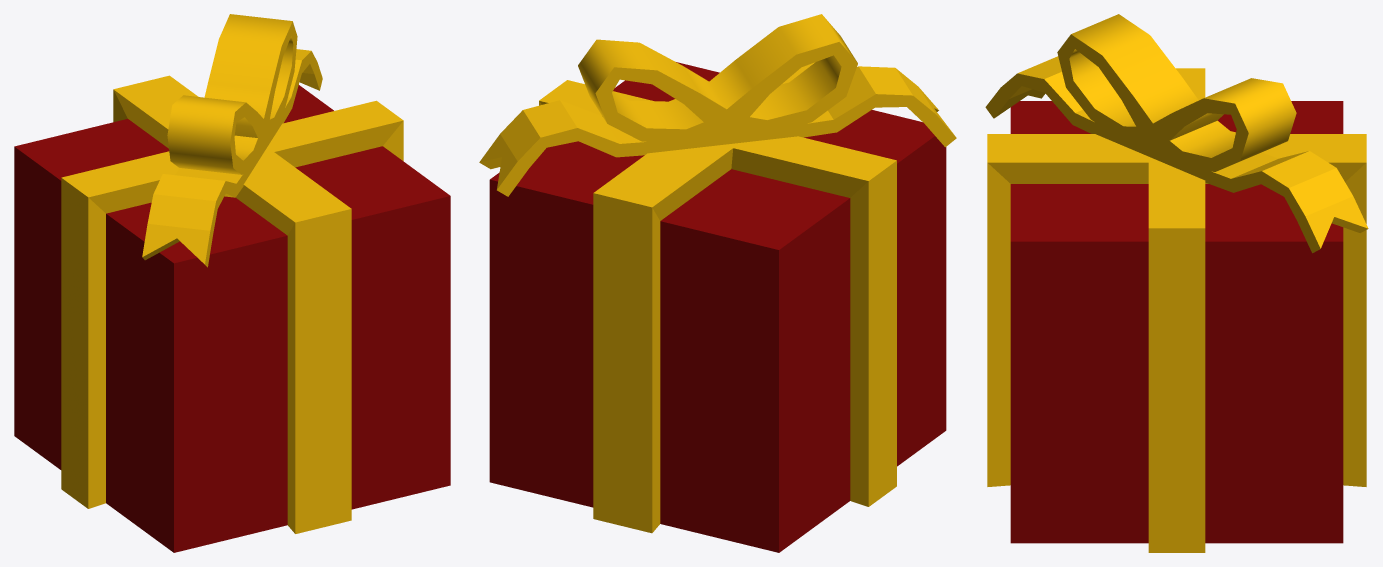
The model's file is Presents1.fbx.
3 renders of one model, left to right at view 1: azimuth 30°, elevation 25°; view 2: azimuth 150°, elevation 25°; view 3: azimuth 270°, elevation 25°, orthographic. The views are drawn at different scales.
Visible parts, largest first — view 1: Present1; view 2: Present1; view 3: Present1.
Boxes of the visible parts, bbox=[...] form: Present1: bbox=[14, 14, 450, 552]; Present1: bbox=[479, 14, 956, 552]; Present1: bbox=[985, 14, 1368, 552].
Bounding box in the file's own units: 46.08 × 54.94 × 46.08.
